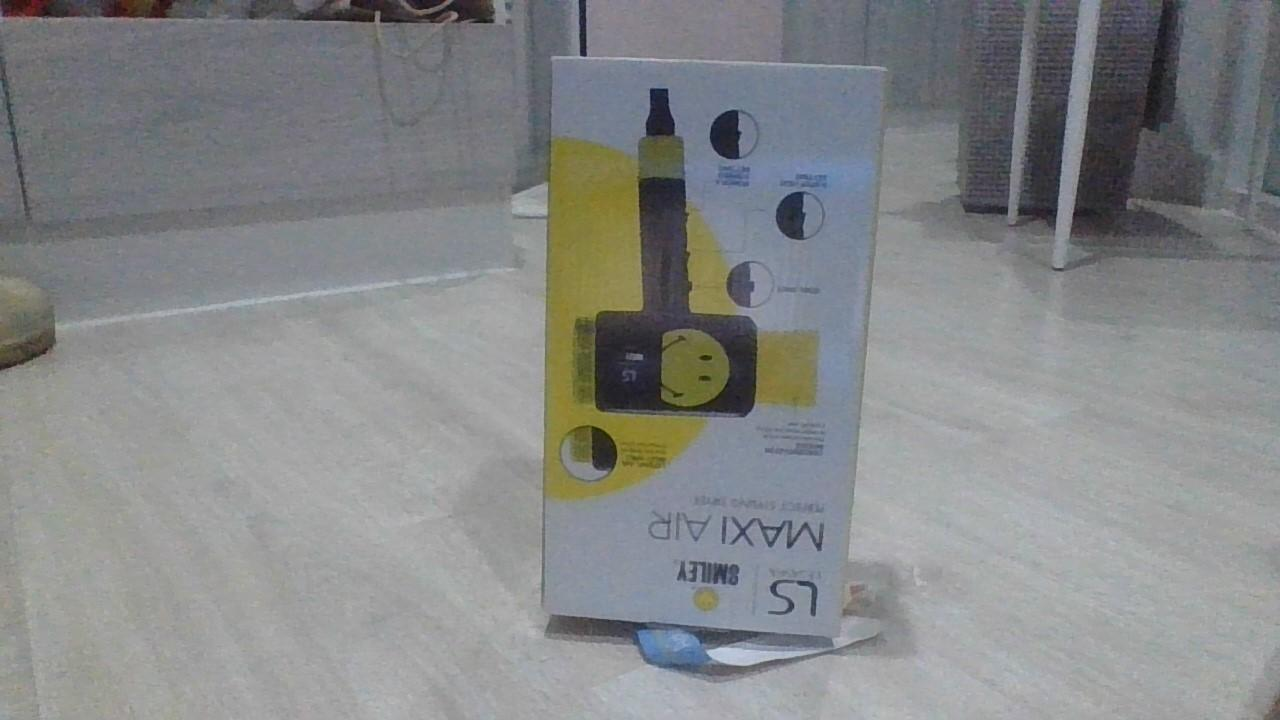Dryer: (536, 51, 891, 646)
